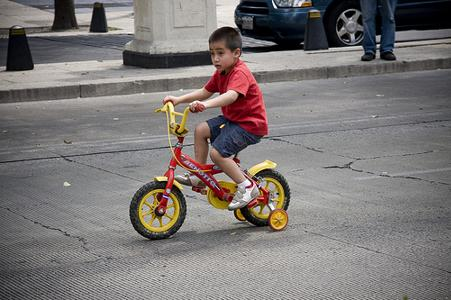person: (164, 27, 271, 213)
